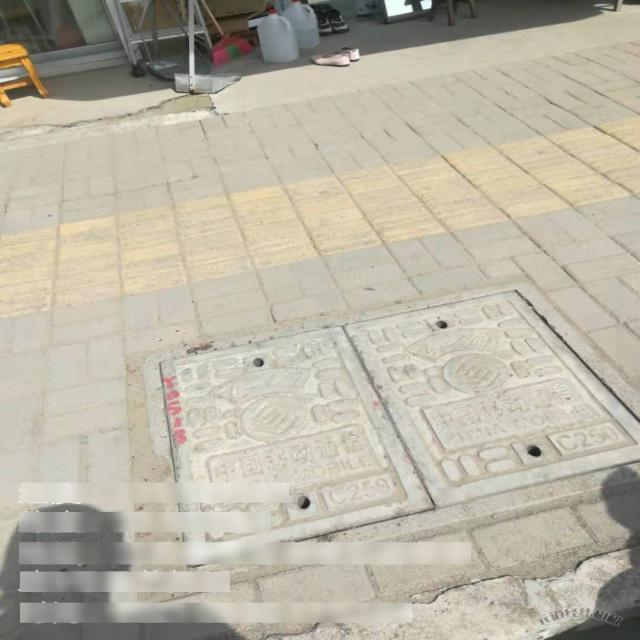Good: (142, 280, 640, 585)
